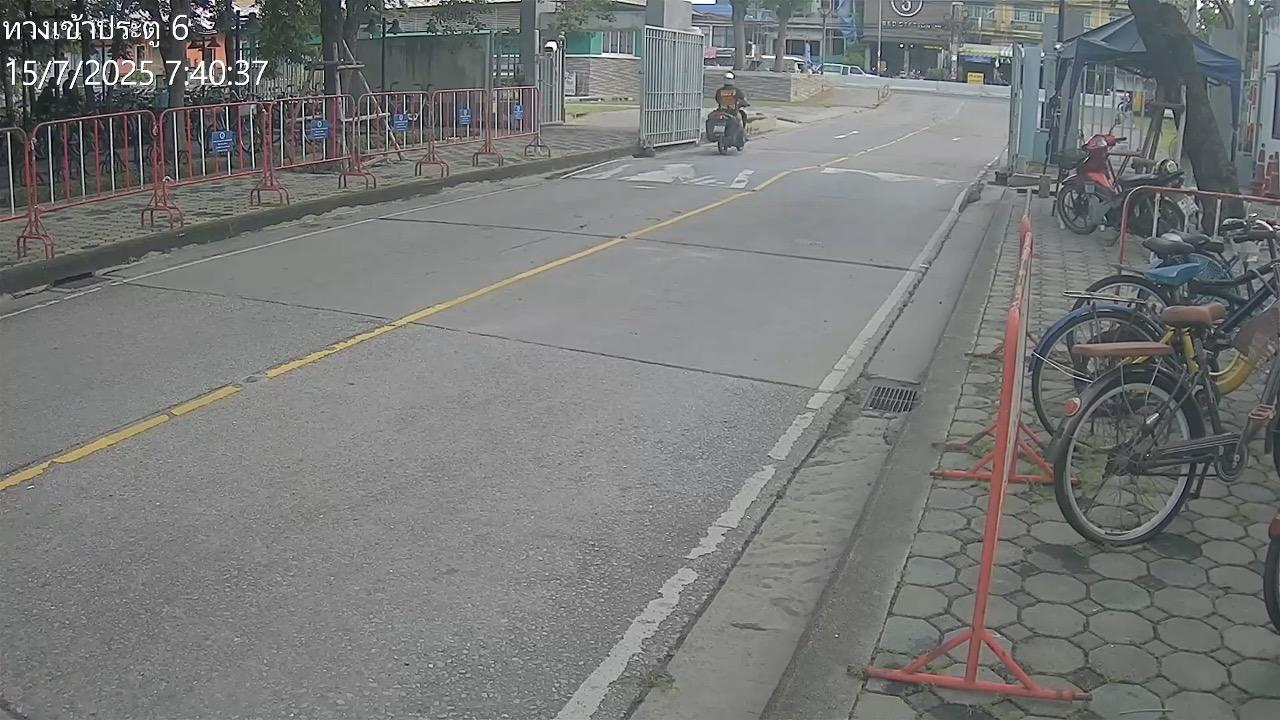With-Helmet: (722, 72, 736, 85)
